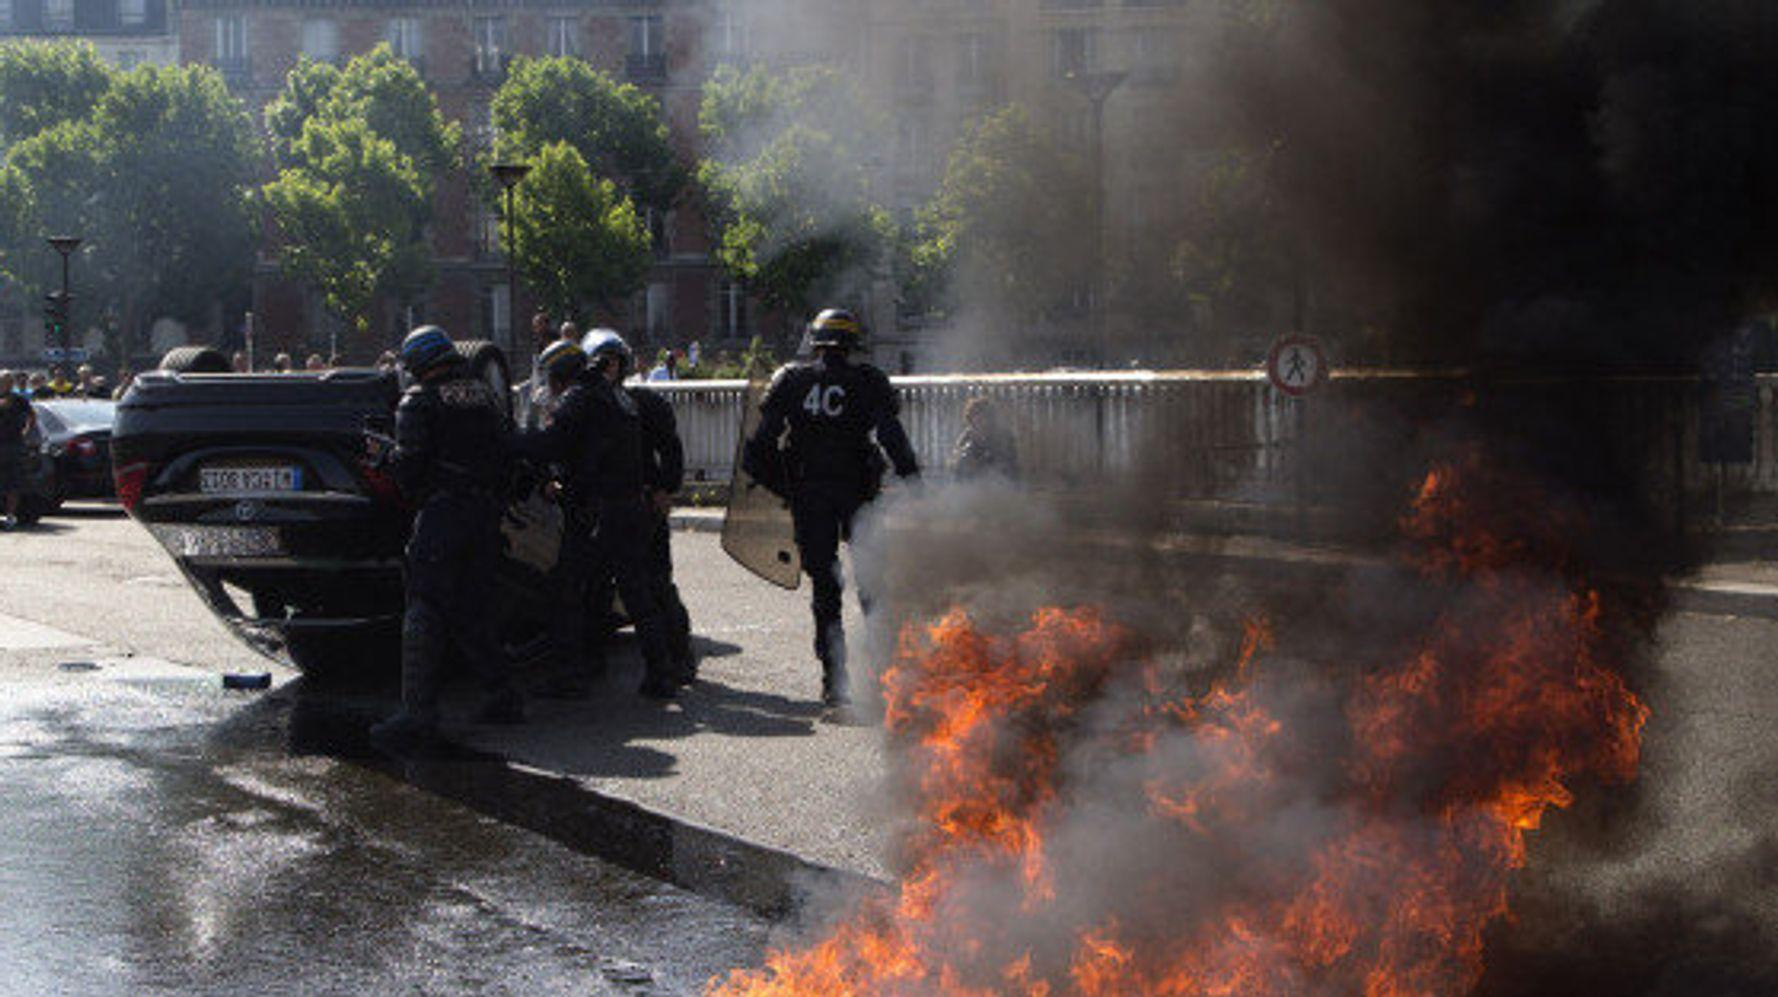fire: (882, 457, 1650, 997), (686, 916, 877, 997)
smoke: (966, 0, 1761, 457), (667, 1, 960, 228), (838, 462, 1277, 608), (1508, 869, 1778, 997), (1504, 453, 1723, 599), (1051, 810, 1314, 927), (1281, 459, 1421, 655), (1054, 676, 1181, 805), (1261, 660, 1342, 802), (939, 859, 1042, 953), (1552, 778, 1651, 859), (860, 736, 923, 860), (1133, 611, 1236, 671), (829, 610, 880, 728), (790, 867, 861, 938)
